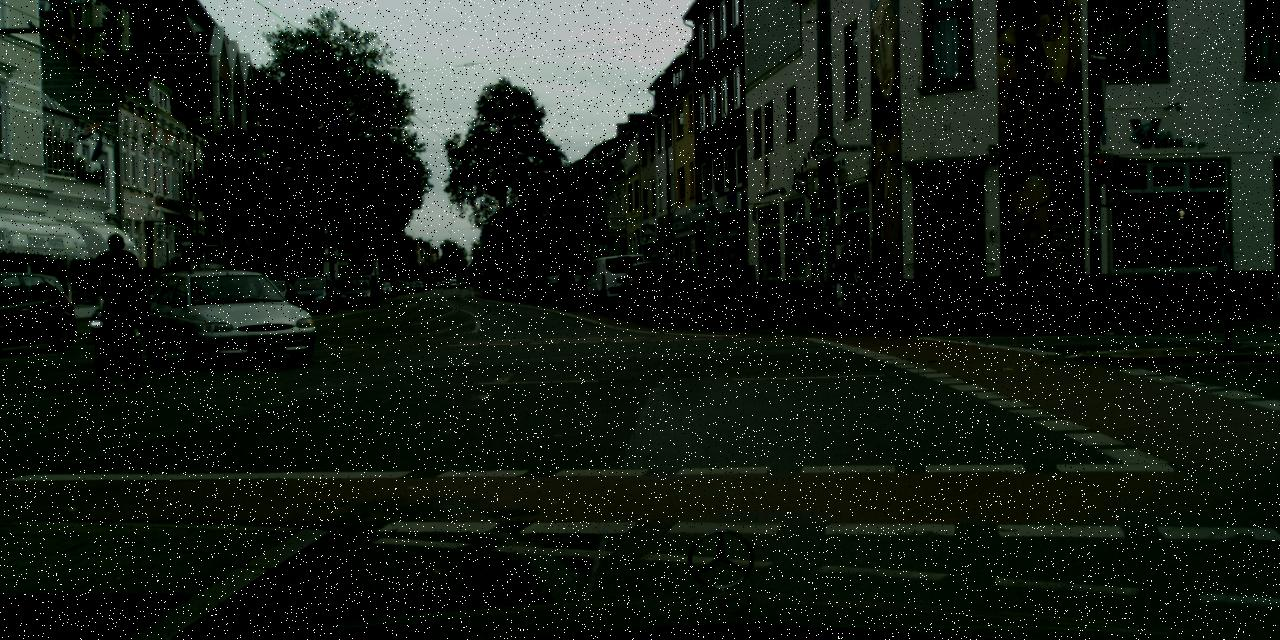ped: (90, 232, 142, 360), (859, 234, 893, 320), (836, 239, 868, 314), (834, 242, 862, 310), (559, 266, 575, 306), (480, 272, 489, 294), (390, 276, 398, 294)
